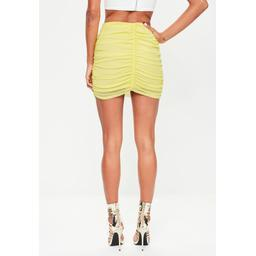skirt: (92, 22, 164, 101)
